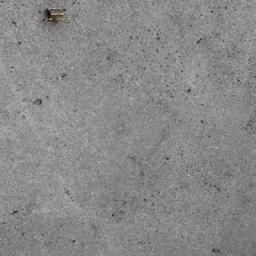FOD: (46, 4, 74, 29)
